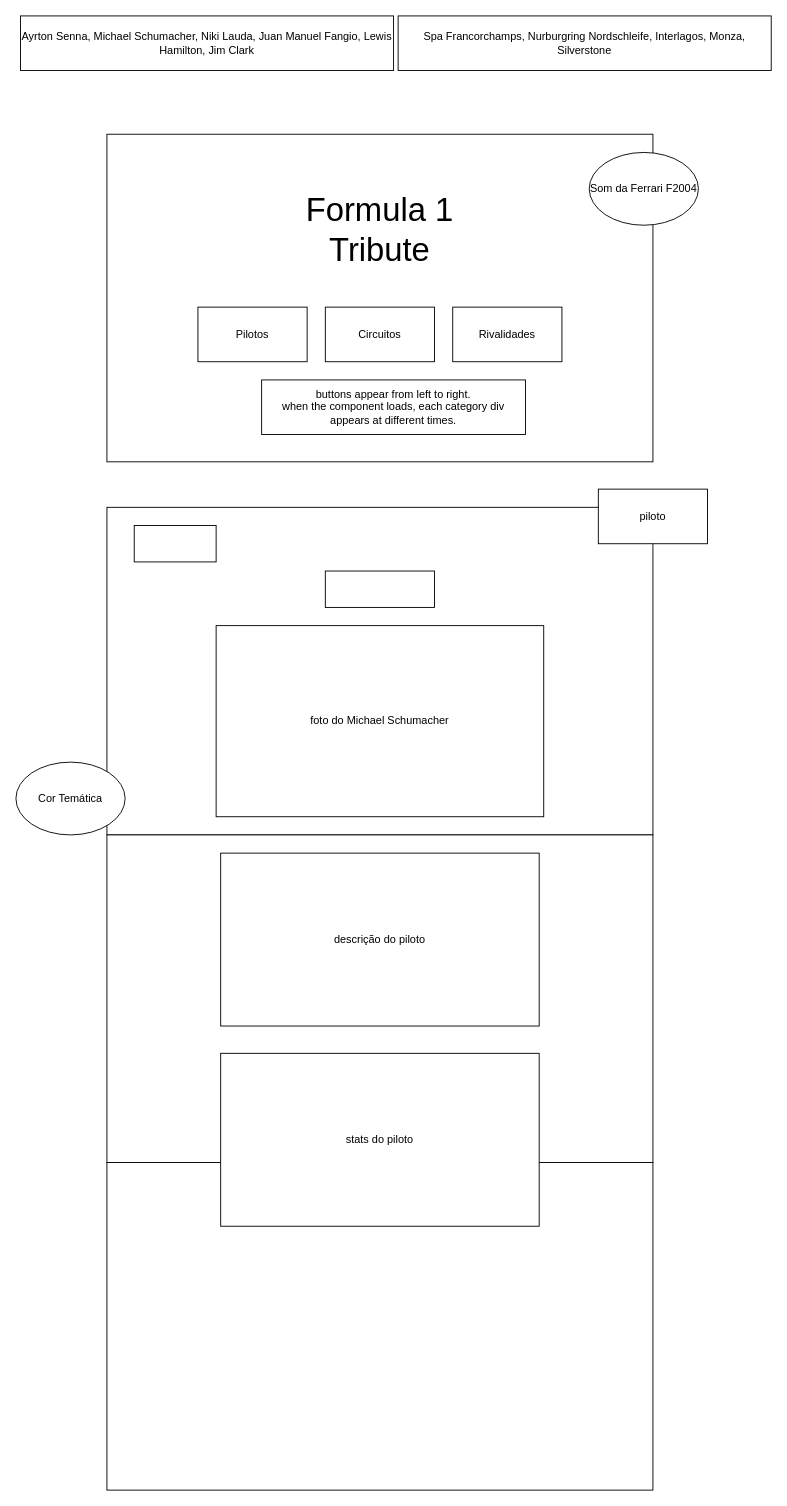
Some shapes in this 787 by 1506 pixel diagram are drawn without their labels. Each missing label, with the centre of its shape:
"HOME" belongs at pixel 174 543.
"Michael Schumacher" belongs at pixel 379 588.
